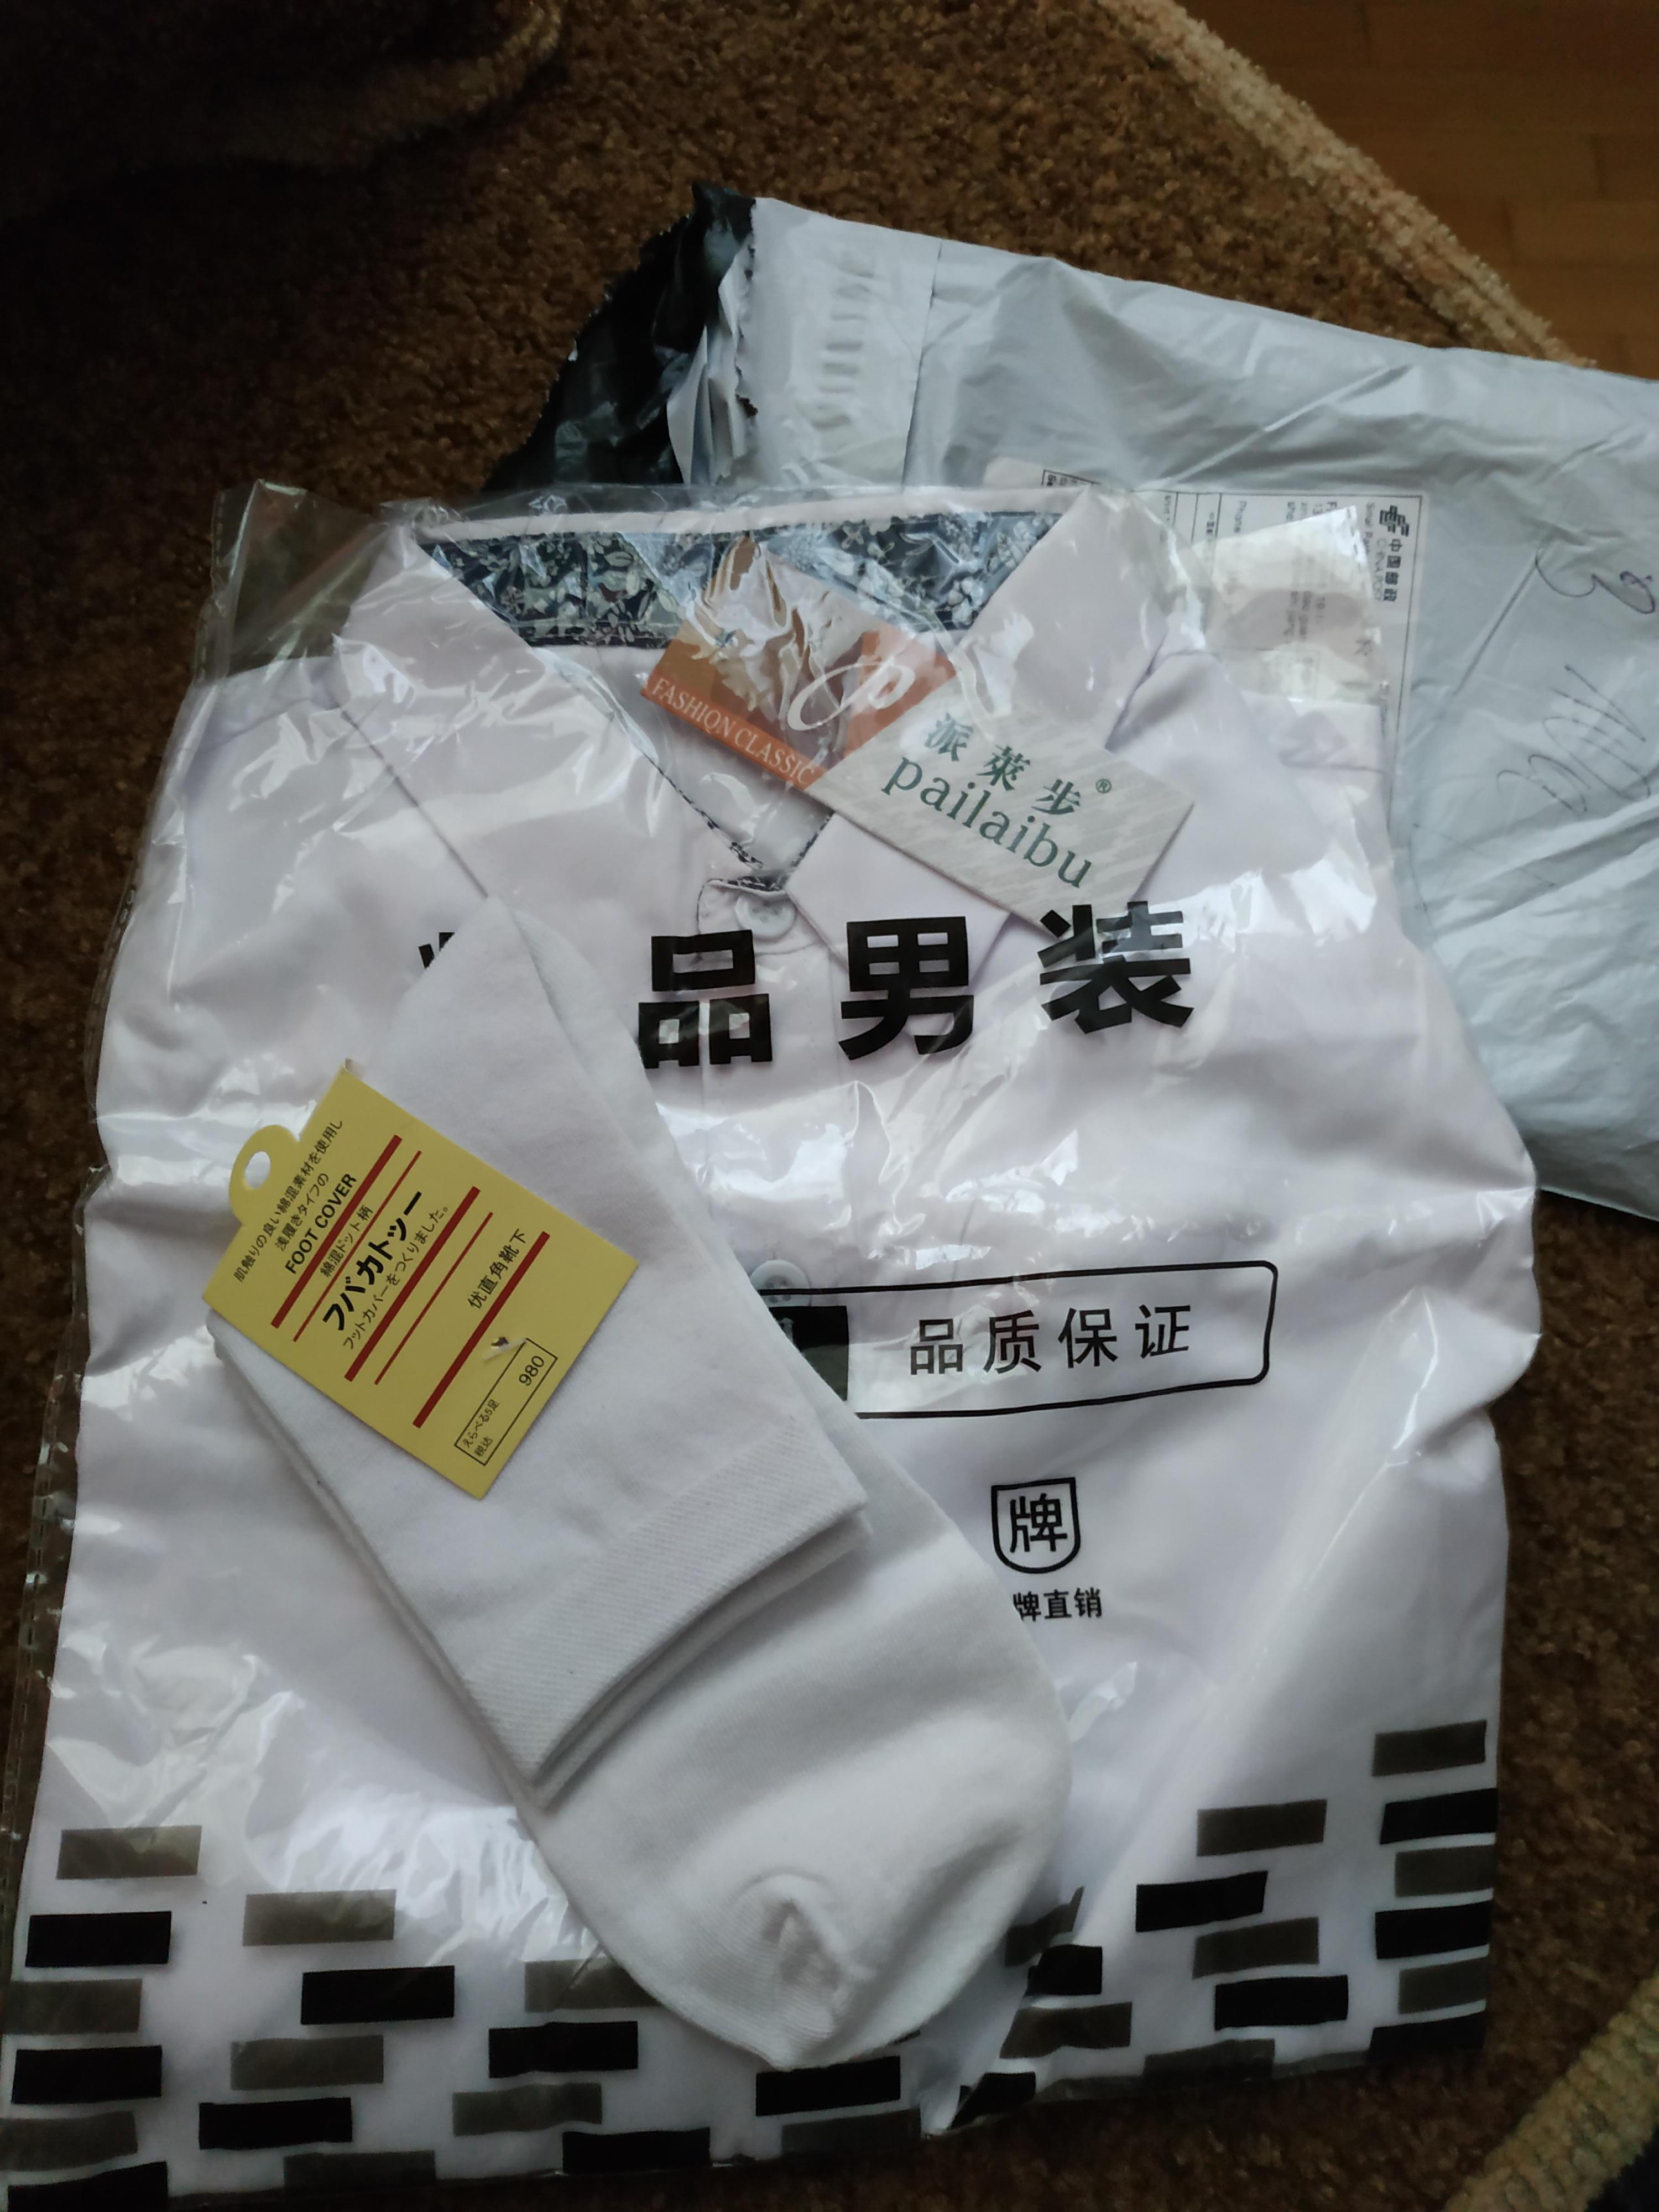shirts: (199, 498, 1549, 2094)
